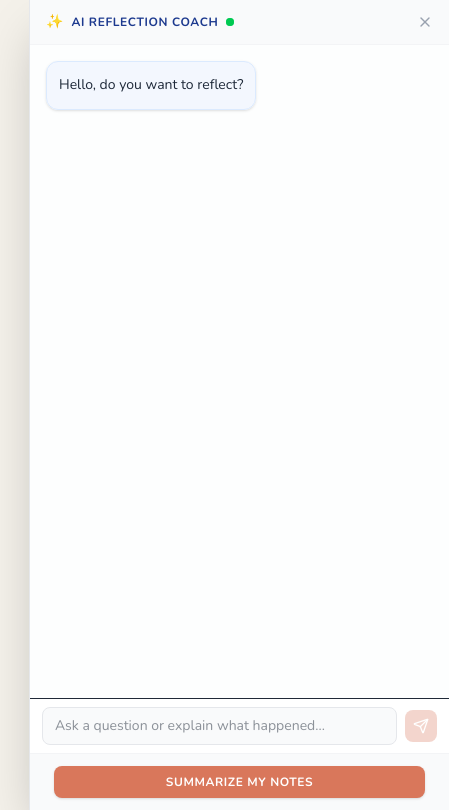
Test: ClusterChatInterface Component › displays an error message if the chat request fails
This screenshot has width=449, height=810.
Type "Network failure test" into the field with placeholder "Ask a question or explain what happened..." at (220, 726), box [42,707,397,745]
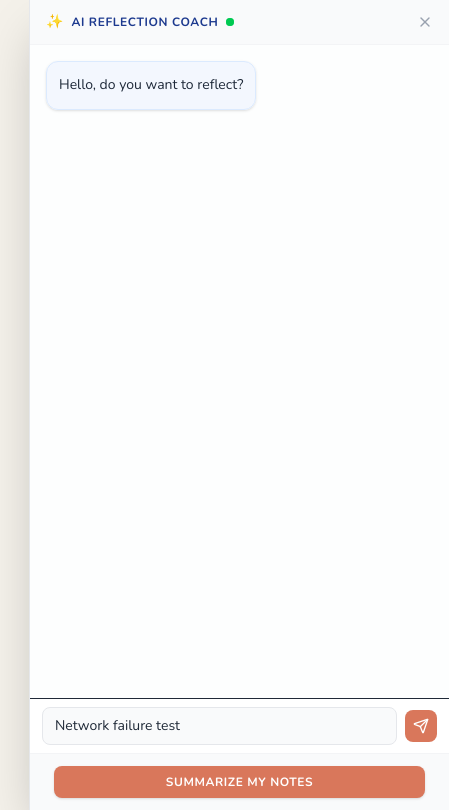
Click the 2nd button at (421, 726), box [405,710,437,742]
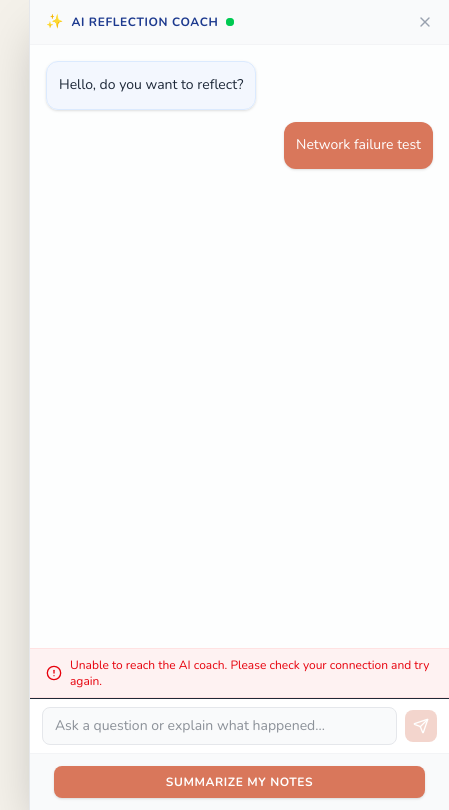
Expected: the text "Unable to reach the AI coach. Please check your connection and try again." is shown, [70,657,433,689]
